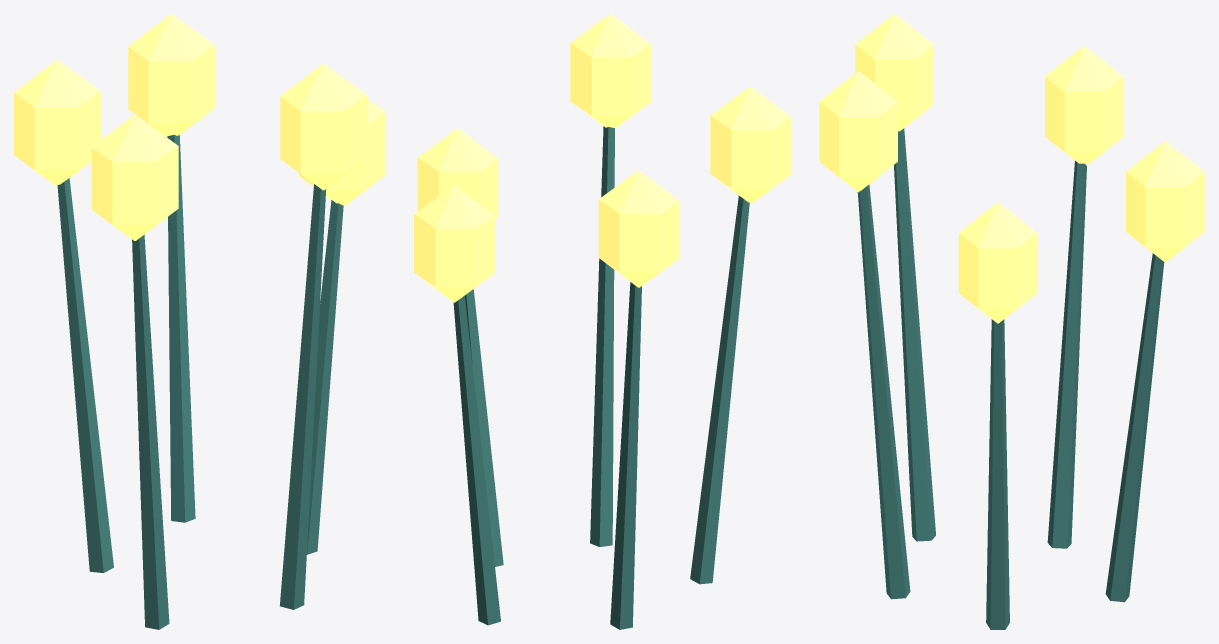
File: Nature_Glow_Reeds_03.glb
3 views of the same model, side by side, from view 1: azimuth 30°, elevation 25°; view 2: azimuth 150°, elevation 25°; view 3: azimuth 270°, elevation 25° (orthographic). The views are drawn at different scales.
Parts seen in each view (by area): view 1: Nature_Glow_Reeds_03; view 2: Nature_Glow_Reeds_03; view 3: Nature_Glow_Reeds_03.
Part boxes in pixels (box(x1,y1,x2,y2)): Nature_Glow_Reeds_03: box(14, 14, 385, 629); Nature_Glow_Reeds_03: box(414, 14, 790, 629); Nature_Glow_Reeds_03: box(819, 14, 1204, 629).
Size of the model in its own units: 0.5189 by 0.8366 by 0.552.
